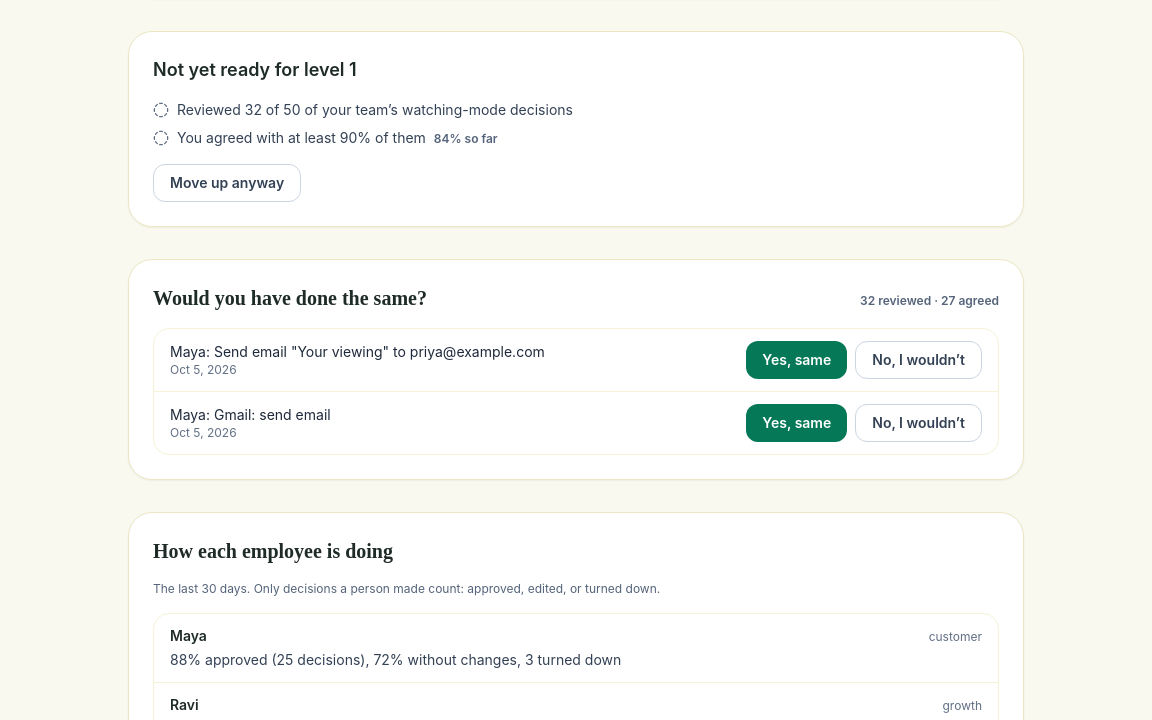
Test: Trust page › shows what the team would have done and records yes or no, updating the count
(page scrolled)
Click the 1st button "Yes, same". click: (797, 360)
box: [746, 341, 847, 379]
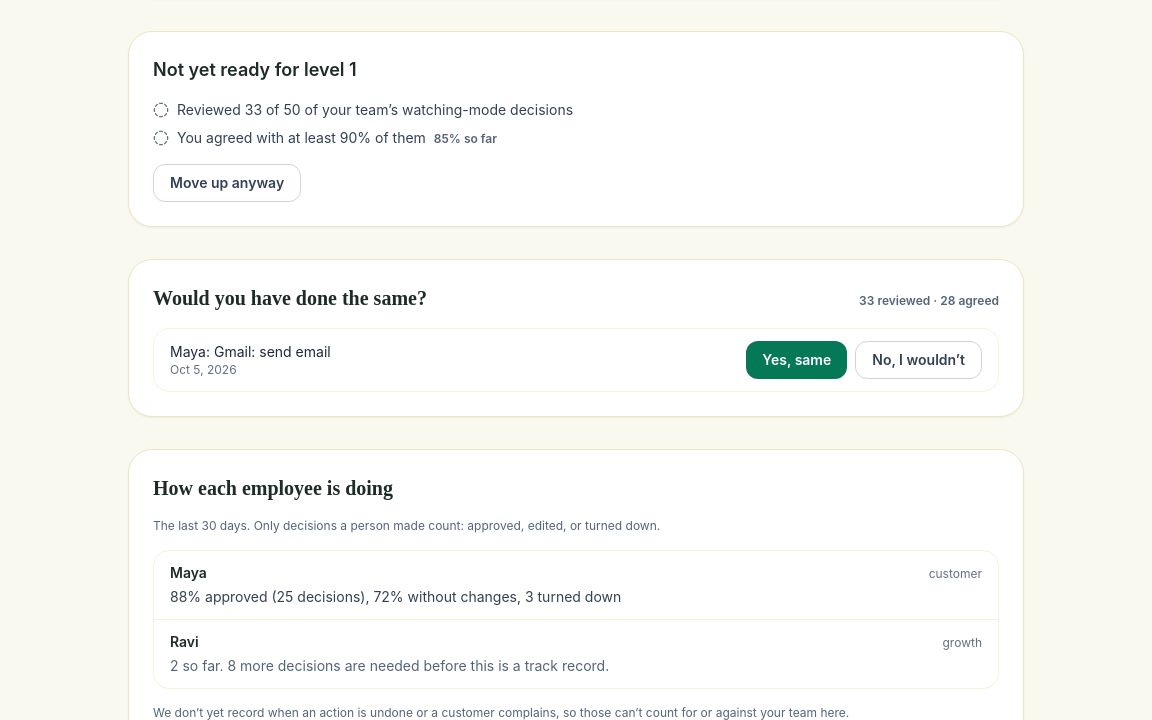
Expected: the text "Your viewing" is gone
Expected: the text "33 reviewed · 28 agreed" is shown, [859, 293, 999, 309]
